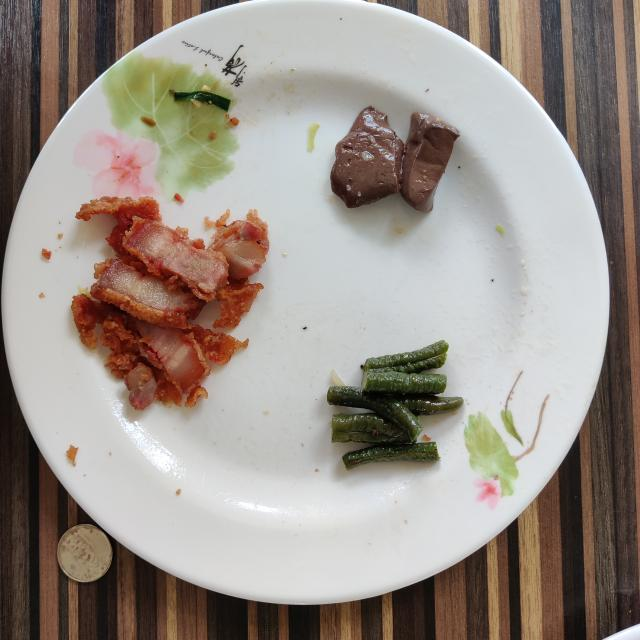coin: (58, 524, 112, 582)
pig blood curd: (330, 106, 460, 212)
red grilled pork: (71, 196, 269, 410)
